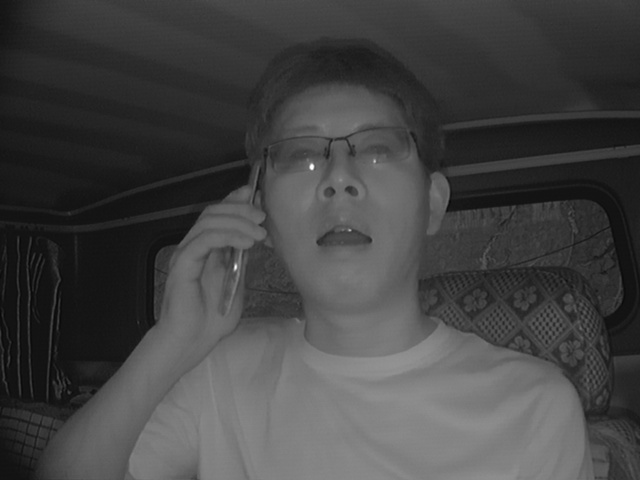hand: (162, 188, 264, 333)
